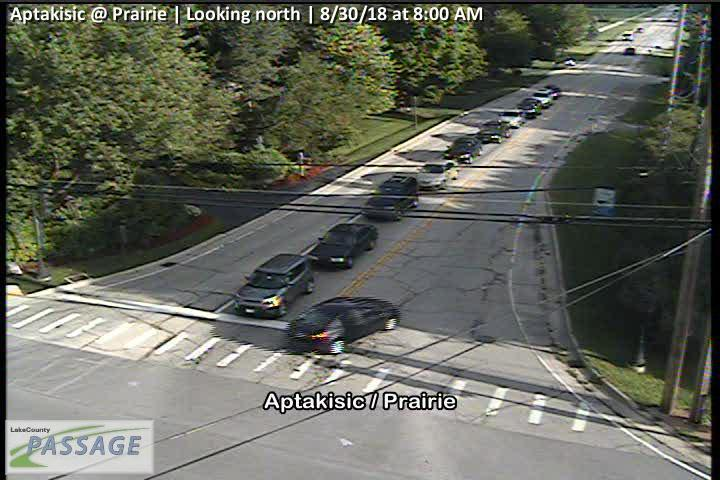SUV: (234, 253, 315, 318), (361, 175, 420, 220), (534, 89, 553, 106)
Sedan: (287, 296, 400, 356), (309, 223, 379, 268), (415, 159, 460, 190), (444, 136, 483, 163), (478, 120, 511, 143), (518, 98, 543, 118), (499, 109, 526, 126)
